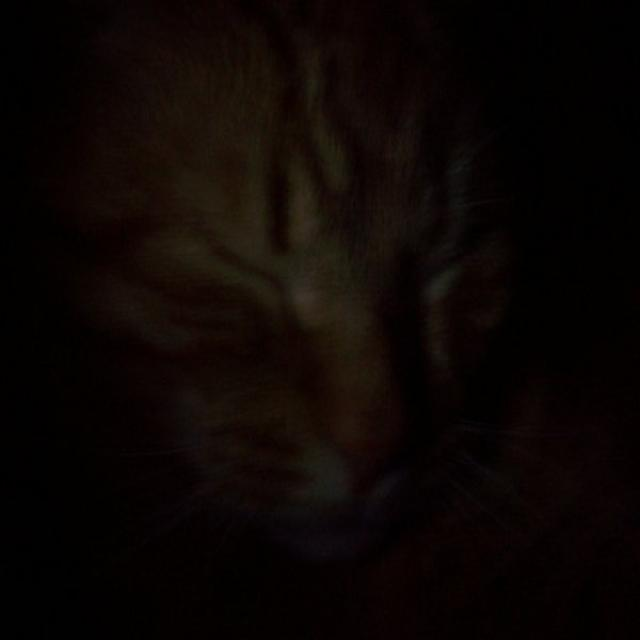Cat: (7, 4, 553, 582)
